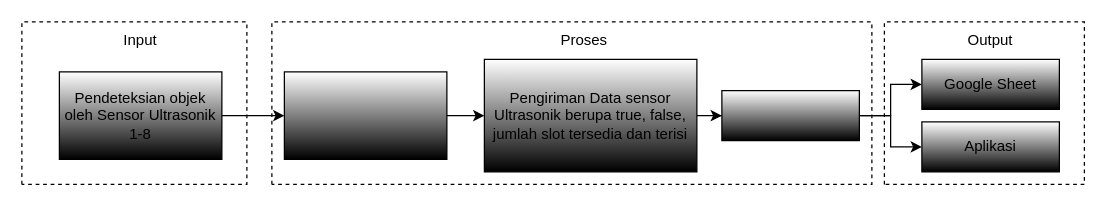
This 1108x208 diagram has some shape labels left out. The shapes that lost their labels are listed below. From the top down, each one's centre as x and y in pixels, then its label:
(365,115): Akuisisi & perhitungan data oleh mikrokontroller
(790,115): Database
